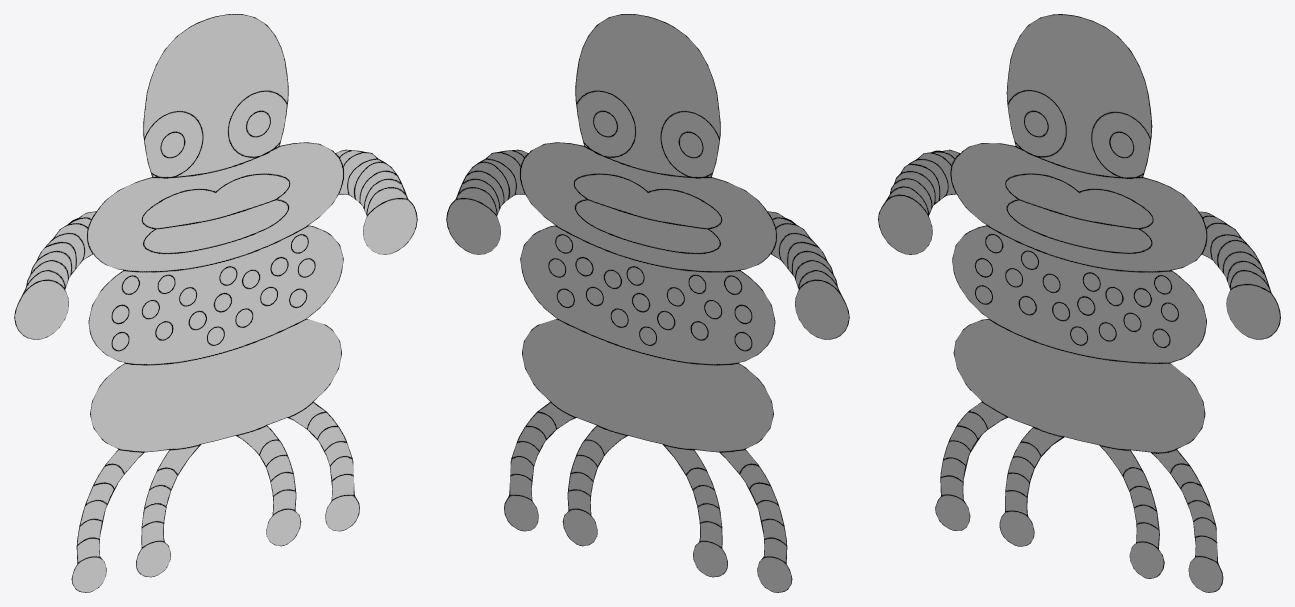
Rendered from 7_muyul.fbx.
3 views of the same model, side by side, from view 1: azimuth 30°, elevation 25°; view 2: azimuth 150°, elevation 25°; view 3: azimuth 330°, elevation 25° (orthographic).
Parts seen in each view (by area): view 1: planarTrimmedSurfsdsdace1; view 2: planarTrimmedSurfsdsdace1; view 3: planarTrimmedSurfsdsdace1.
Boxes of the visible parts, <box> form: planarTrimmedSurfsdsdace1: <box>14,14,417,592</box>; planarTrimmedSurfsdsdace1: <box>446,14,849,592</box>; planarTrimmedSurfsdsdace1: <box>878,14,1280,592</box>.
Bounding box in the file's own units: 25.33 × 32.78 × 0.0145.
1 material, 1 textured.
